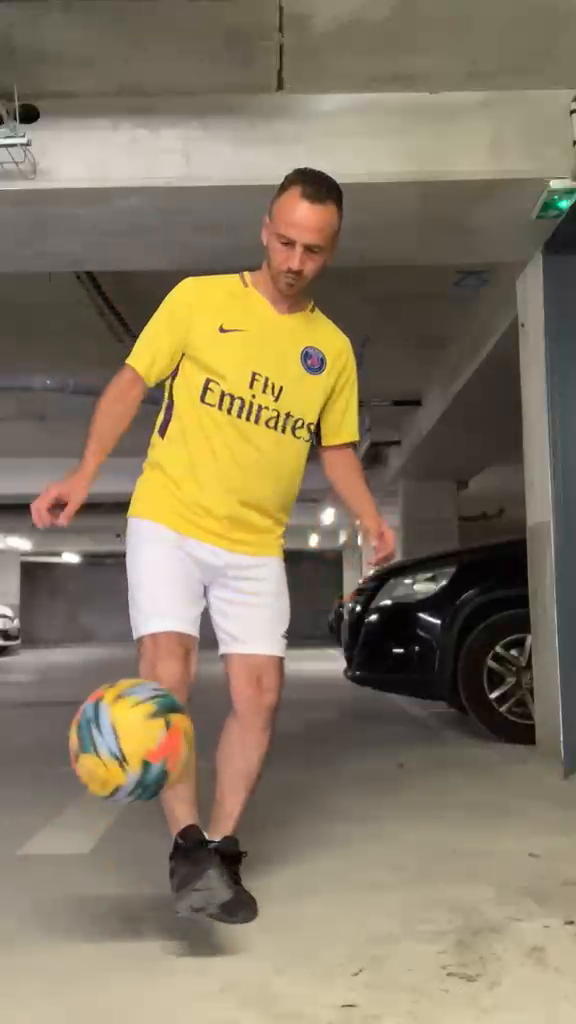ball: (66, 677, 191, 802)
